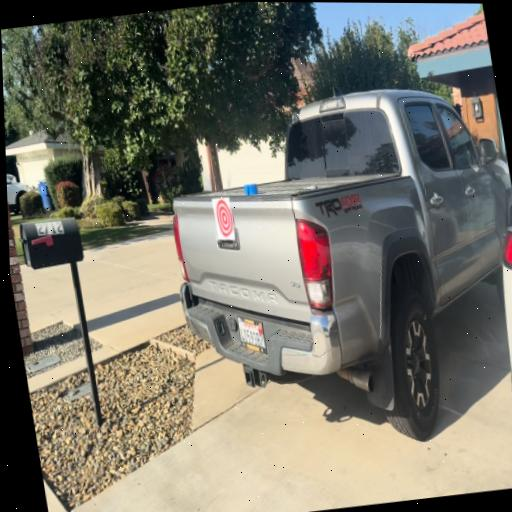bullseye: (215, 198, 236, 240)
